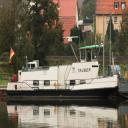tugboat: (6, 37, 120, 104)
